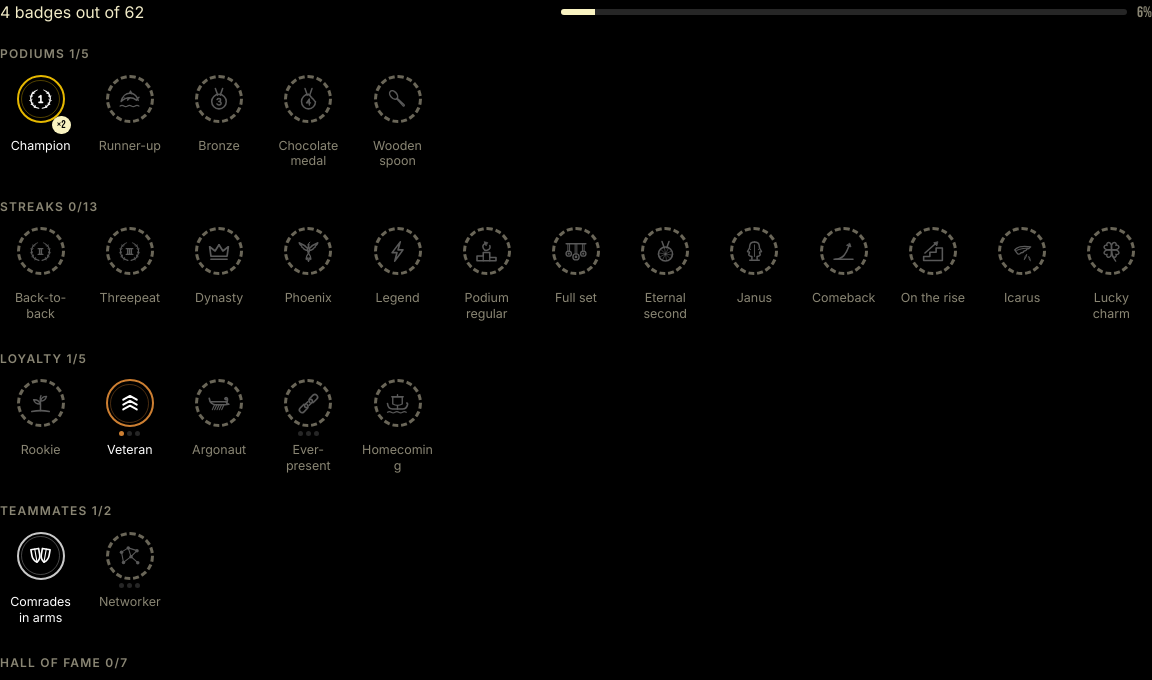
BadgeCollection › closes on Escape and gives focus back to the slot button
The width and height of the screenshot is (1152, 680).
Click the button "Veteran": {"x": 130, "y": 426} [89, 375, 170, 477]
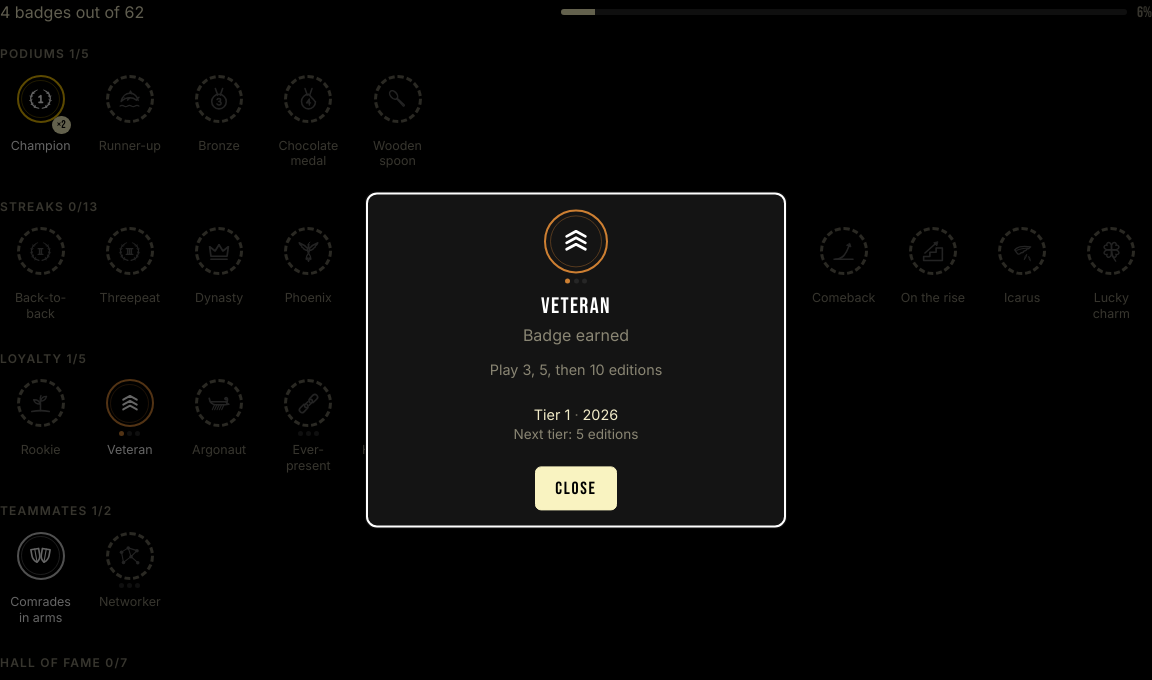
Expected: the dialog is shown, [366, 192, 786, 528]
Press Escape
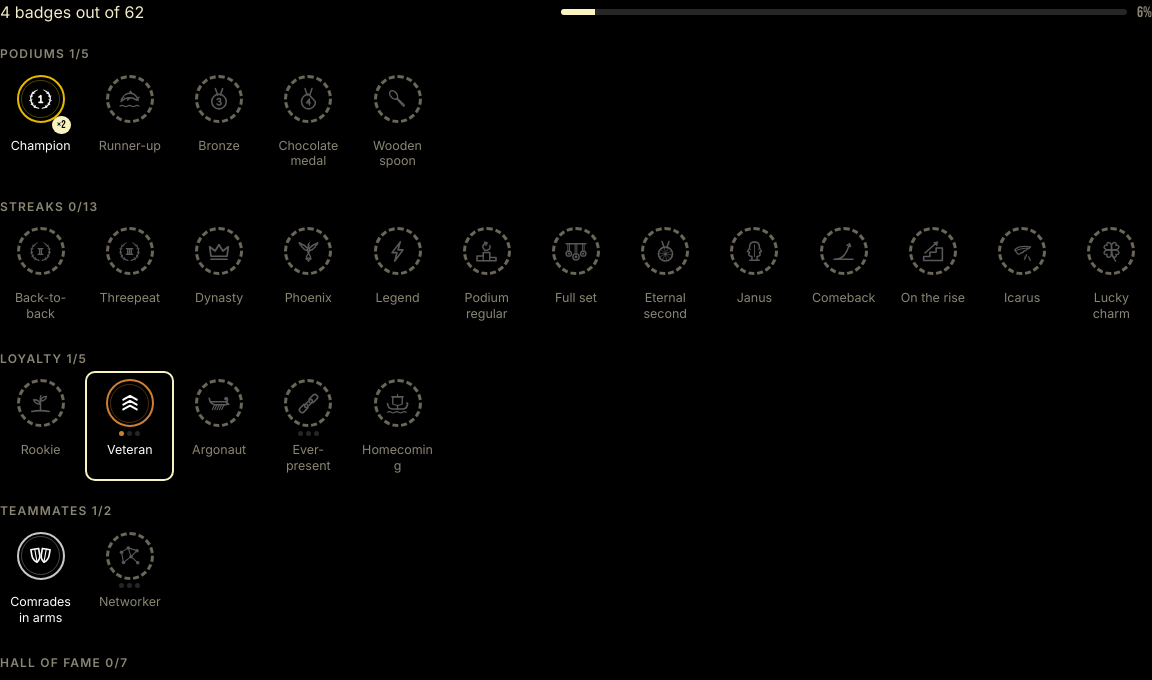
Expected: the dialog is gone
